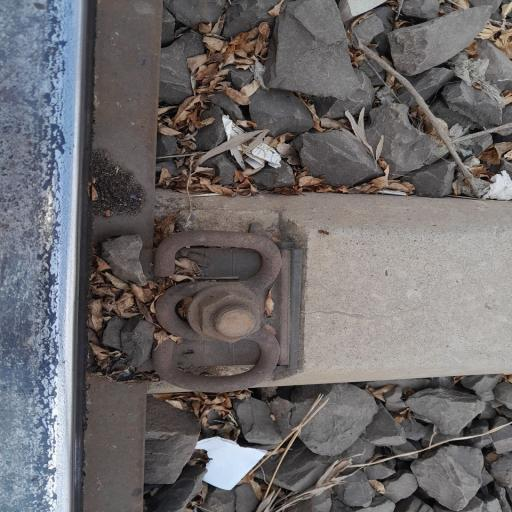bolt: (183, 286, 281, 362)
clip: (126, 223, 308, 416)
rail: (0, 59, 103, 484)
